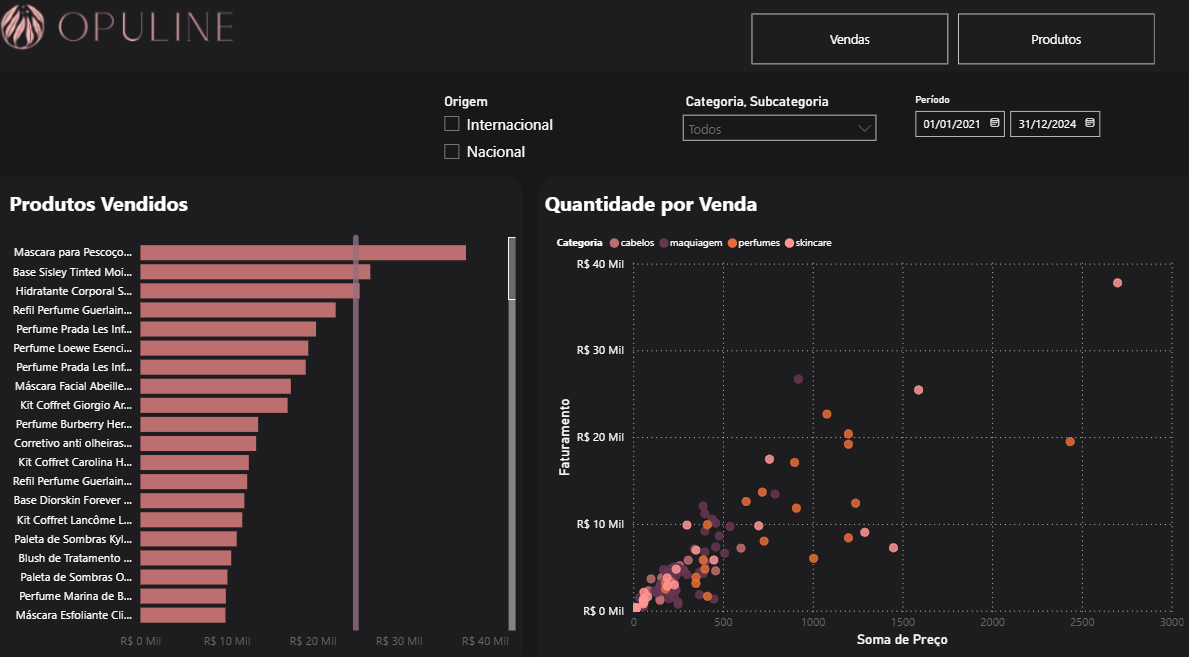

What the dashboard file says about the page in this screenshot:
{"tool":"powerbi","page":{"name":"Produtos","canvas":[1280,720],"ordinal":9},"visuals":[{"type":"textbox","box":[14.3,198.8,318.1,74.8],"z":0},{"type":"textbox","box":[583.8,198.8,429.5,62],"z":1},{"type":"clusteredBarChart","fields":{"Y":["_Medidas.Faturamento"],"Category":["dProdutosFinais.Título"]},"box":[6.2,242.1,556,459.3],"z":3},{"type":"scatterChart","fields":{"Category":["dProdutosFinais.Título"],"X":["Sum(dProdutosFinais.Preço)"],"Y":["_Medidas.Faturamento"],"Series":["dCategoriasProdutos.Categoria"]},"box":[595,242.1,675.7,452.2],"z":4},{"type":"slicer","fields":{"Values":["dCategoriasProdutos.Categoria Hierarquia.Categoria","dCategoriasProdutos.Categoria Hierarquia.Subcategoria"]},"box":[724.4,96.7,225.2,86],"z":5},{"type":"slicer","fields":{"Values":["Calendario.Date"]},"box":[968.3,96.7,260.7,71.8],"z":6},{"type":"slicer","fields":{"Values":["dMarcas.Origem"]},"box":[468.2,96.7,256.3,86],"z":7},{"type":"pageNavigator","box":[806.9,16.8,428.3,54.1],"z":8}]}

Visuals, with their boxes in screenshot pixels (x1, y1, x2, y2), scaled from the page's 1280x720 canvas onto the 1189x657 screenshot:
textbox: 13,181,309,250
textbox: 542,181,941,238
clusteredBarChart - _Medidas.Faturamento x dProdutosFinais.Título: 6,221,522,640
scatterChart - dProdutosFinais.Título x Sum(dProdutosFinais.Preço): 553,221,1180,634
slicer - dCategoriasProdutos.Categoria Hierarquia.Categoria x dCategoriasProdutos.Categoria Hierarquia.Subcategoria: 673,88,882,167
slicer - Calendario.Date: 899,88,1142,154
slicer - dMarcas.Origem: 435,88,673,167
pageNavigator: 750,15,1147,65
